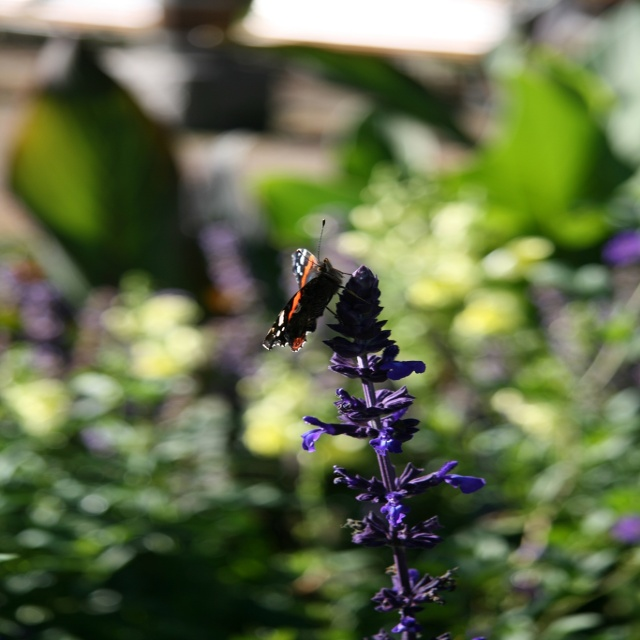Butterfly: (274, 232, 380, 358)
